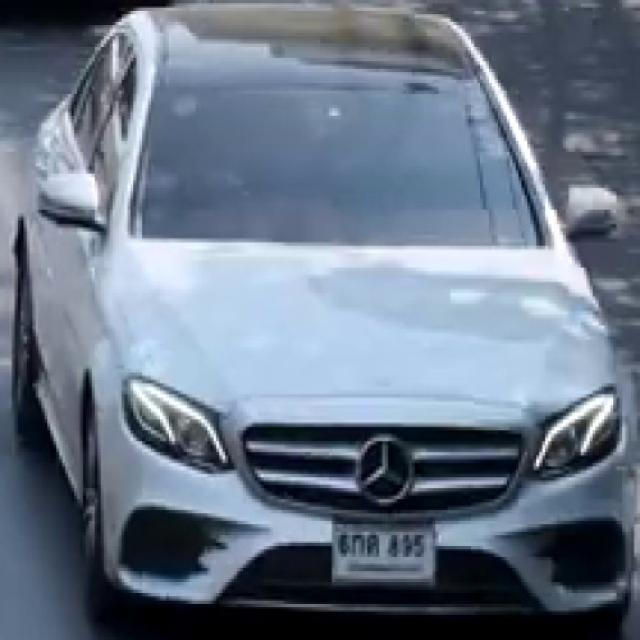plate: (334, 524, 436, 582)
